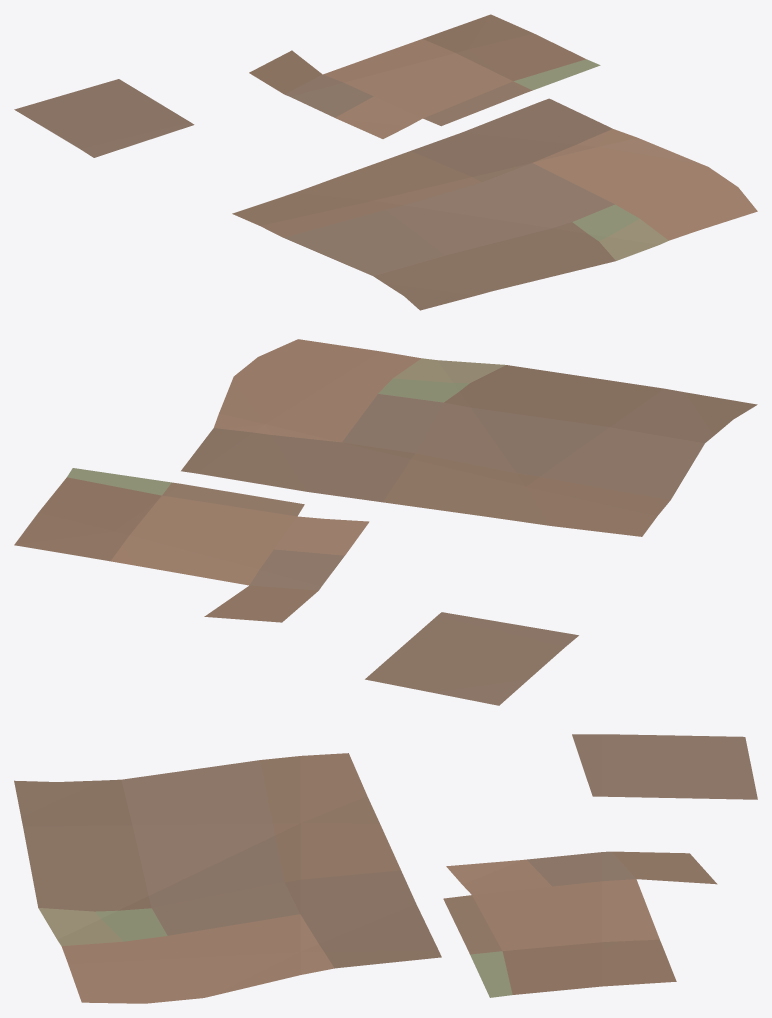
File: farm_30_37_soil.glb
The picture shows the model from 3 angles, top to bottom: view 1: azimuth 30°, elevation 25°; view 2: azimuth 150°, elevation 25°; view 3: azimuth 270°, elevation 25°; orthographic projection. The views are drawn at different scales.
Visible parts, largest first — view 1: geometry_0; view 2: geometry_0; view 3: geometry_0.
Boxes of the visible parts, x1=… form: geometry_0: x1=14, y1=14, x2=757, y2=310; geometry_0: x1=14, y1=339, x2=757, y2=705; geometry_0: x1=14, y1=734, x2=757, y2=1003.
Bounding box in the file's own units: 170 × 5.16 × 197.
